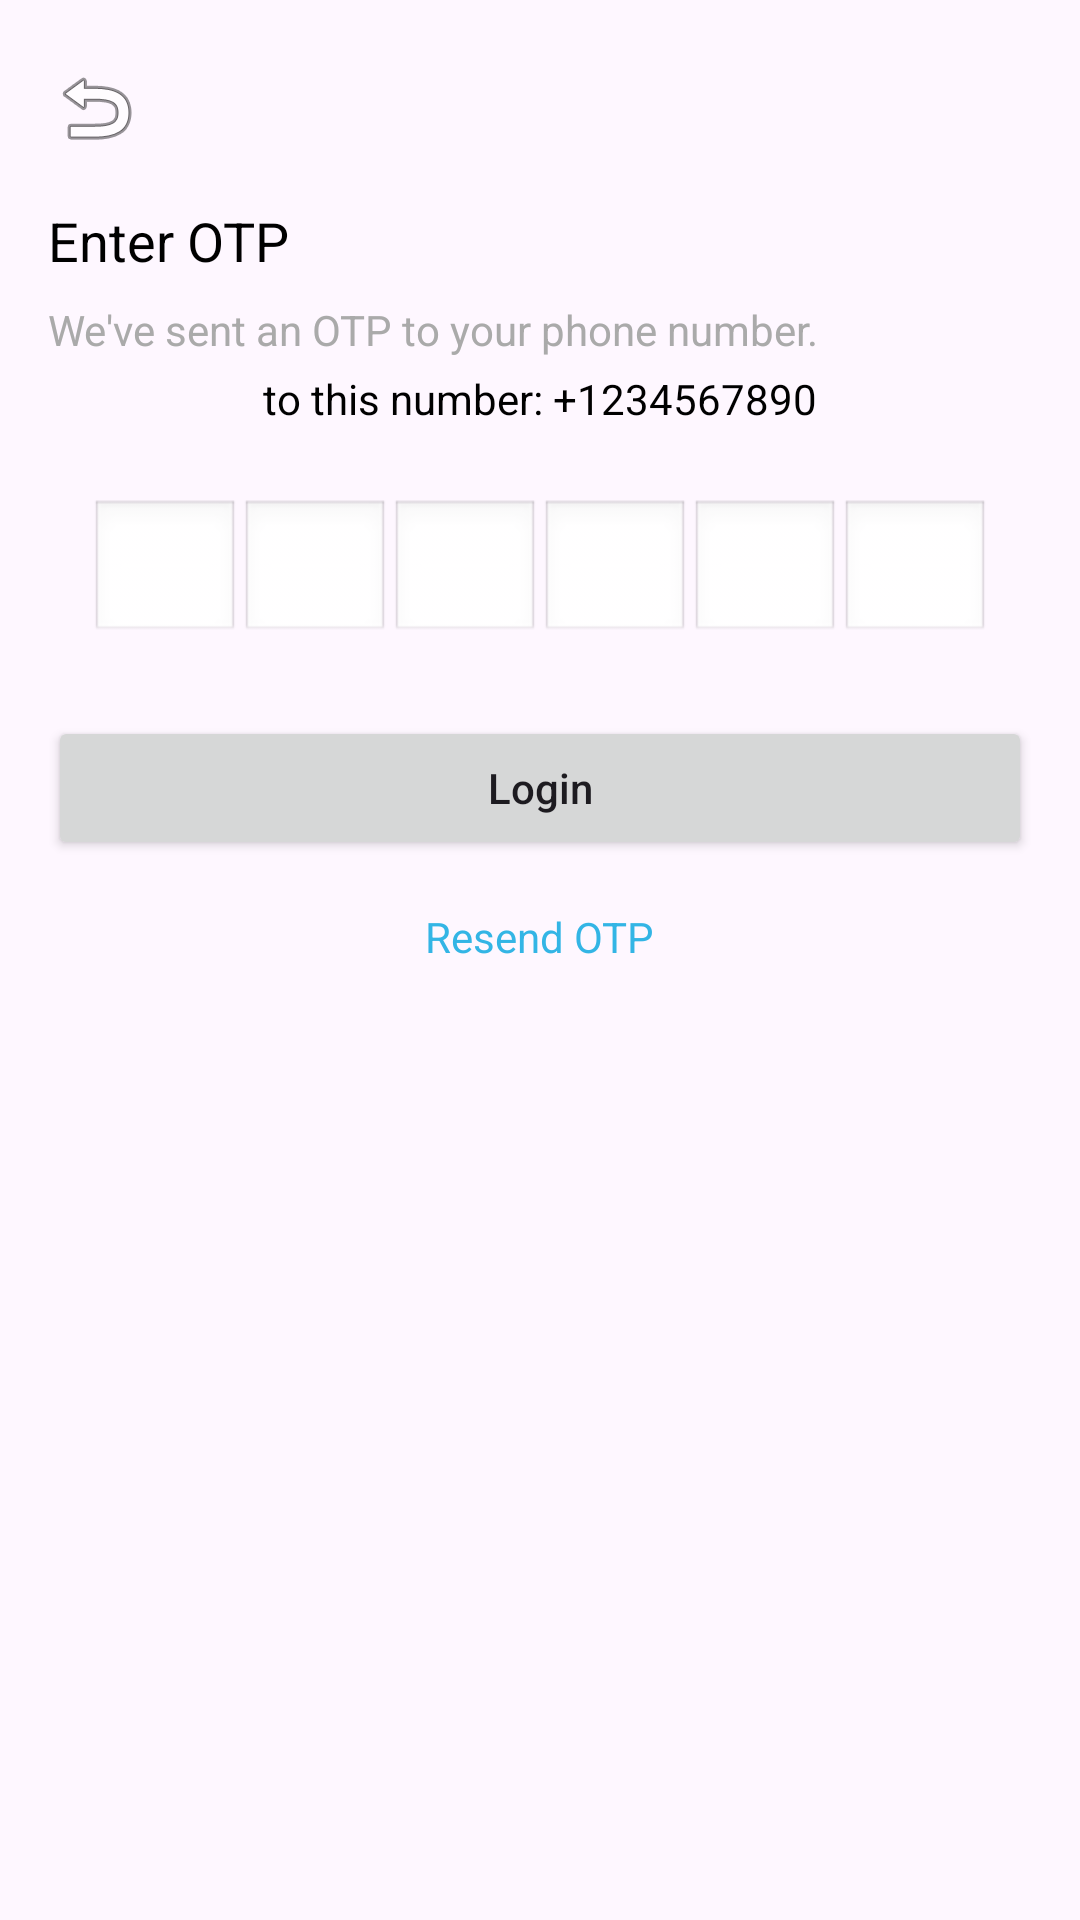

Icon click points for this 1080px x 1920px phone screenshot, format (x=x, y=y):
Back: (x=97, y=108)
